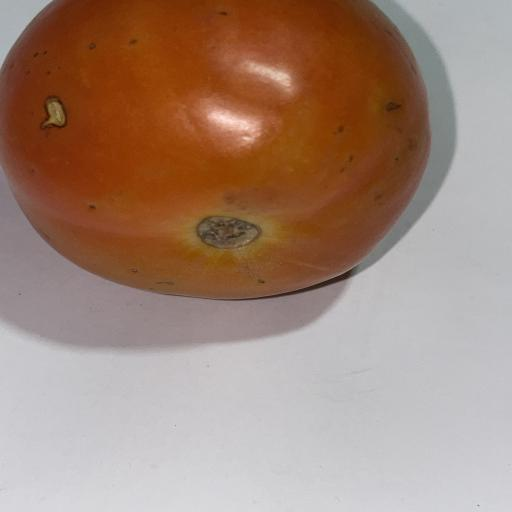ripe: (0, 0, 430, 299)
